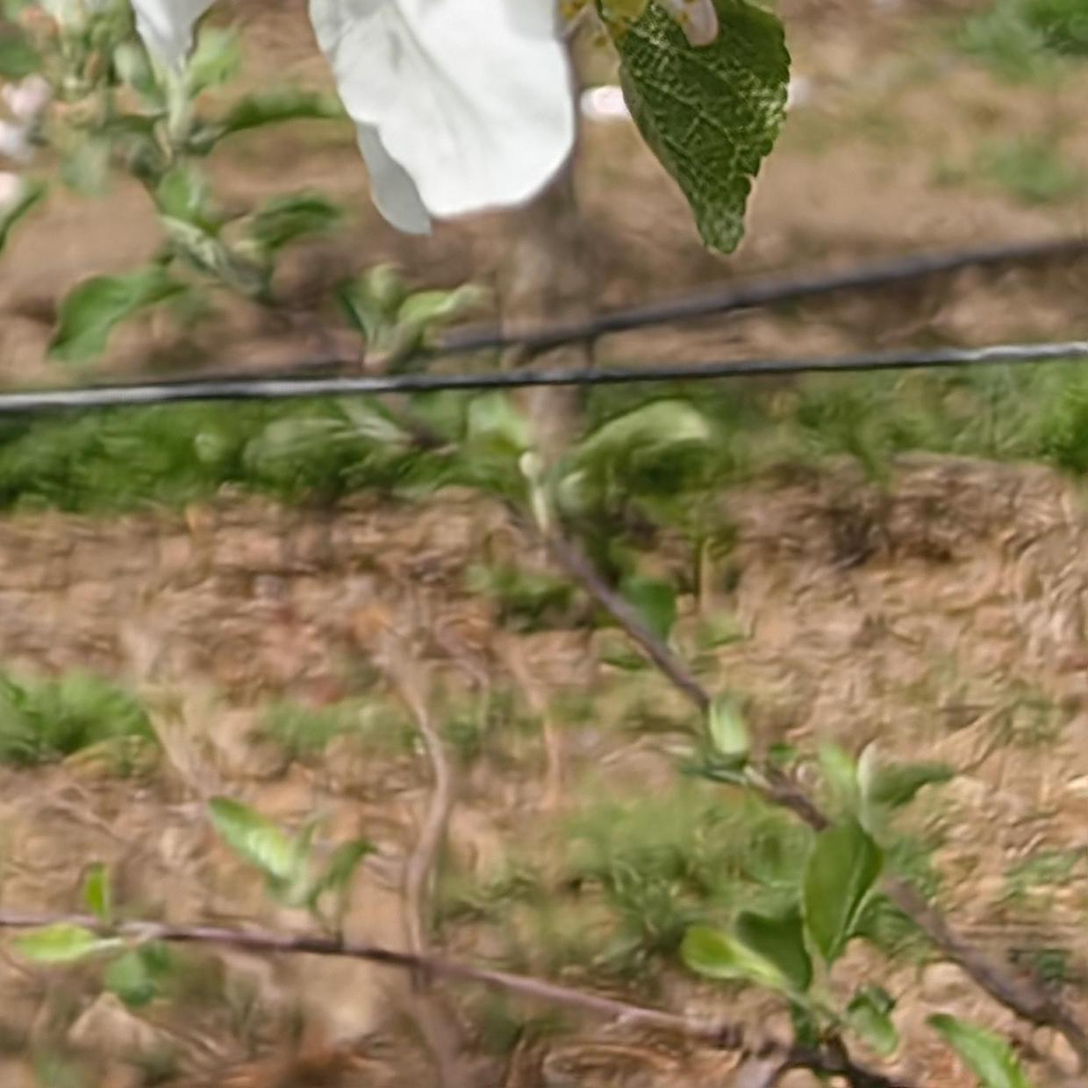apple_flower: (139, 0, 579, 227)
